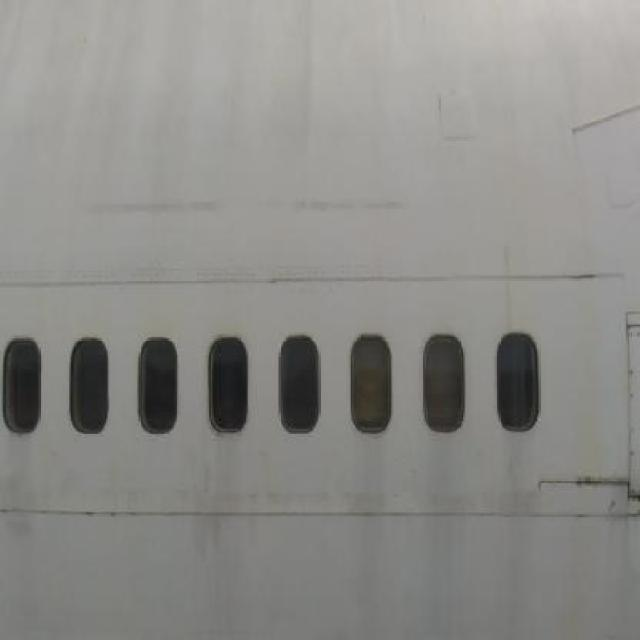Rust: (567, 458, 640, 518)
Scartch: (78, 185, 450, 228)
